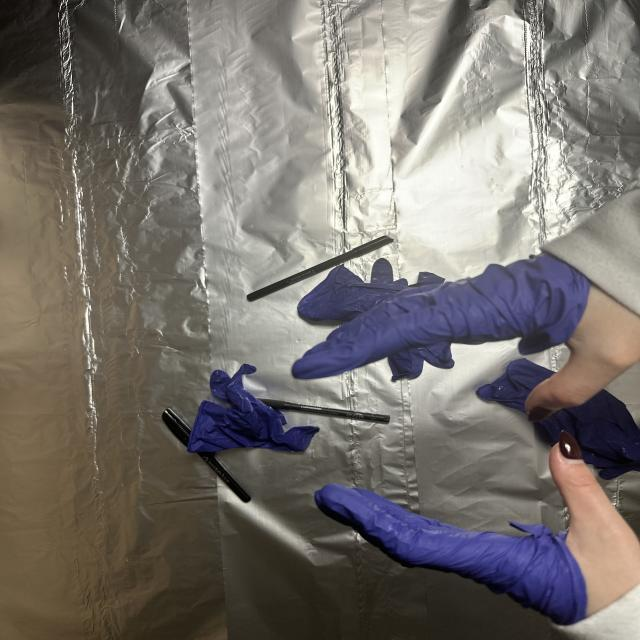glove_partial: (293, 246, 640, 428), (315, 440, 640, 628)
